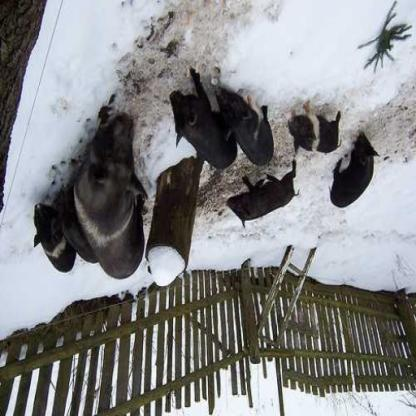boar: (87, 104, 150, 303), (235, 151, 315, 241), (220, 81, 280, 192), (171, 79, 216, 203), (324, 111, 378, 214), (39, 180, 69, 306), (290, 107, 328, 169), (316, 114, 364, 163)
